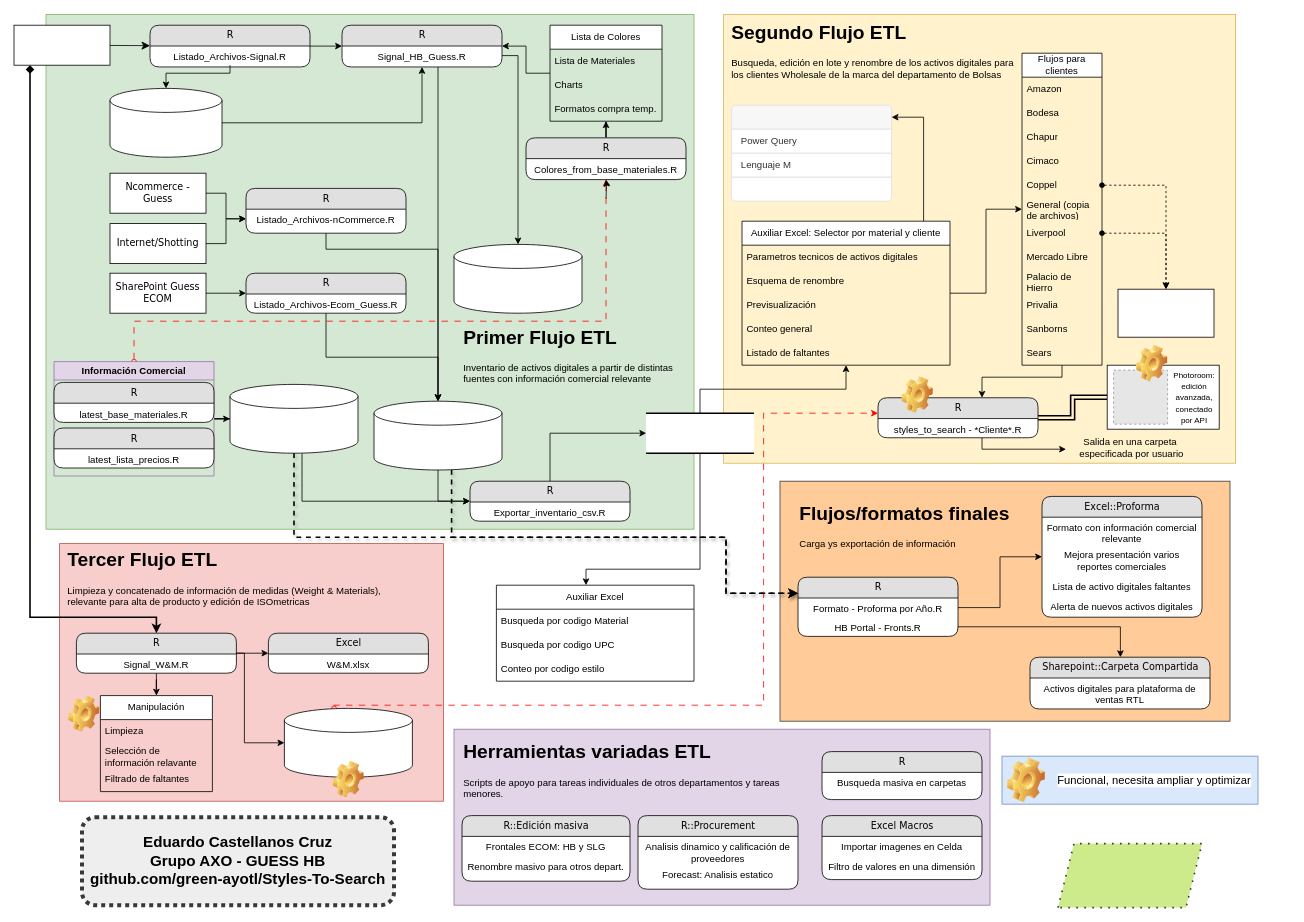
Image size: 1304x922. Some labels were removed from this diagram. Grey dashed boxes stand in for pictures. Here are the shapes that lost their labels. From the top down, the centre of each, then its label:
At (x=61, y=44): "Signal ShareFile".
At (x=165, y=122): "file_list.sqlite".
At (x=811, y=116): "Herramientas en Excel".
At (x=811, y=188): "Conexiones datos externos".
At (x=517, y=278): "Colores.sqlite".
At (x=1165, y=312): "Selección para edición ISOmetricas".
At (x=293, y=418): "guess_hb.sqlite".
At (x=437, y=435): "guess_hb_materiales.sqlite".
At (x=699, y=433): "Inventario General".
At (x=348, y=742): "weight_&_materials.sqlite".
At (x=1129, y=875): "Abril 2025".
